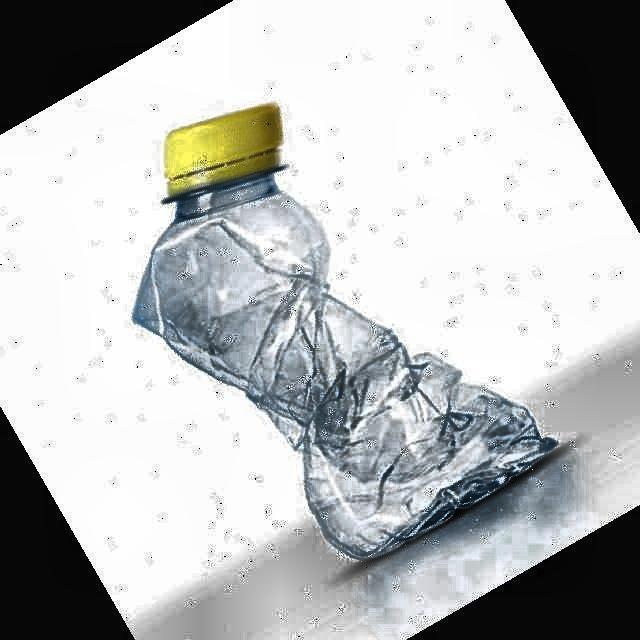plastic: (134, 104, 556, 558)
